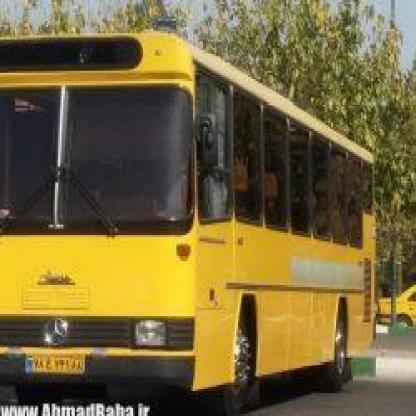Bus: (0, 39, 394, 401)
Car: (372, 279, 416, 333)
